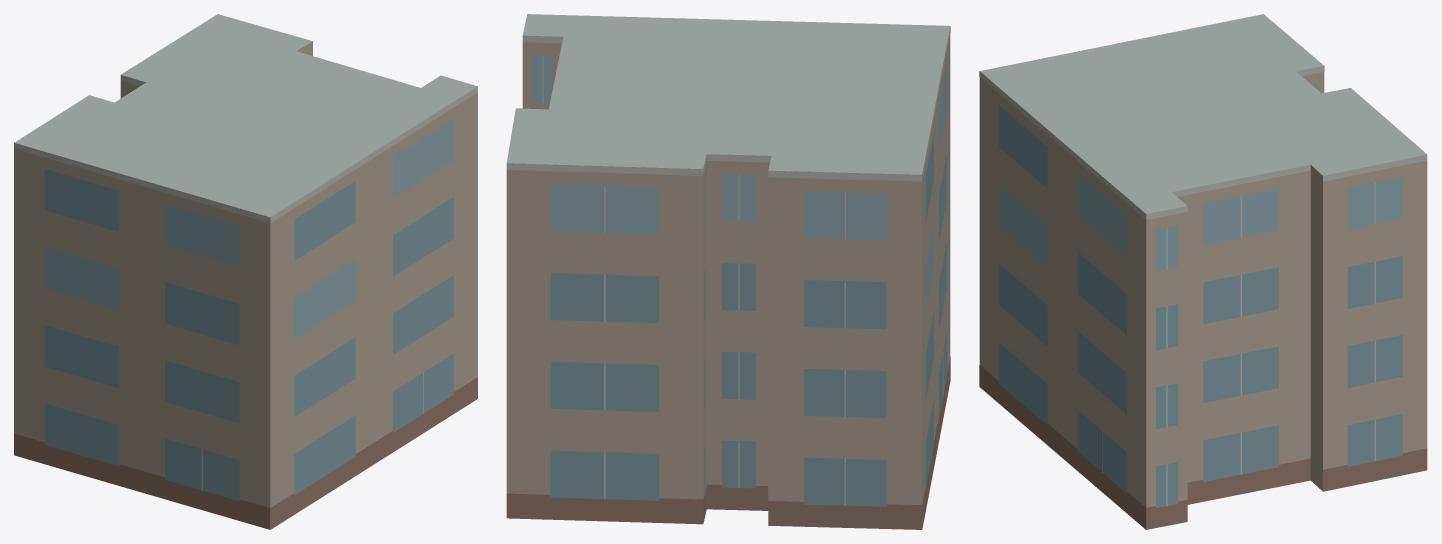
File: survey-upis-32733495.glb
3 renders of one model, left to right at view 1: azimuth 30°, elevation 25°; view 2: azimuth 150°, elevation 25°; view 3: azimuth 270°, elevation 25°, orthographic. The views are drawn at different scales.
Visible parts, largest first — view 1: survey-upis-32733495.tmp; view 2: survey-upis-32733495.tmp; view 3: survey-upis-32733495.tmp.
Part boxes in pixels (bbox=[...]): survey-upis-32733495.tmp: bbox=[14, 14, 477, 529]; survey-upis-32733495.tmp: bbox=[506, 14, 950, 529]; survey-upis-32733495.tmp: bbox=[979, 14, 1427, 529].
Bounding box in the file's own units: 17.67 × 13 × 16.71.
